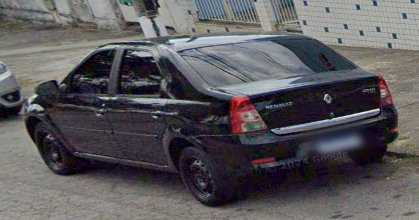car: (24, 31, 399, 206)
